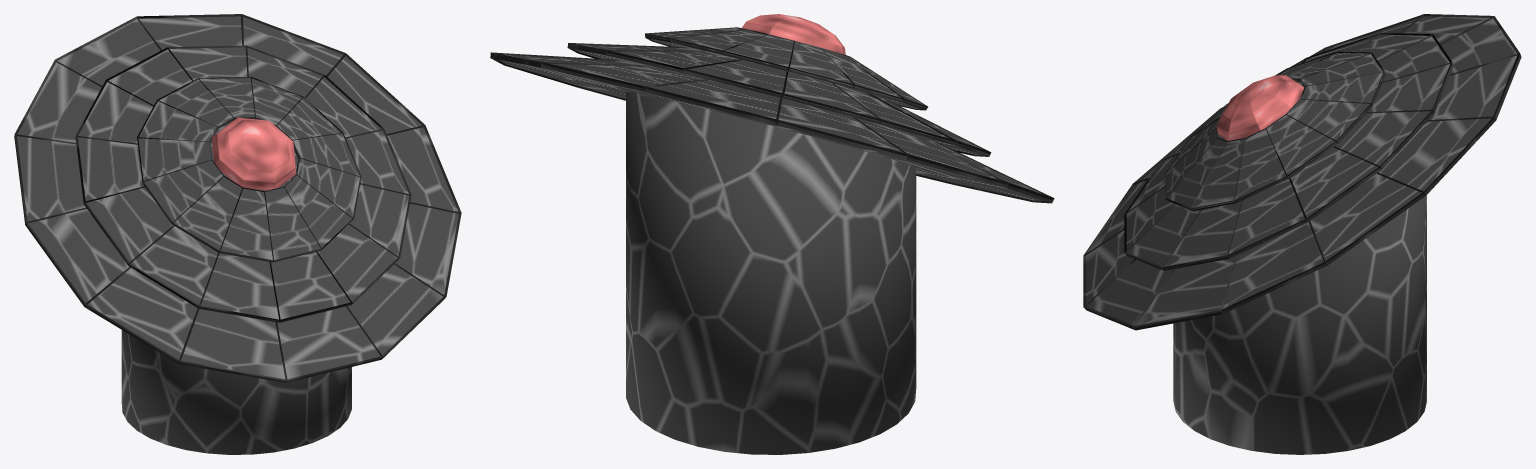
File: DHD_3tiers.glb
The picture shows the model from 3 angles, left to right: view 1: azimuth 30°, elevation 25°; view 2: azimuth 150°, elevation 25°; view 3: azimuth 270°, elevation 25°; orthographic projection. The views are drawn at different scales.
Parts seen in each view (by area): view 1: Ring_Outer, Ring_Middle, Ring_Inner, Cylinder, Button; view 2: Cylinder, Ring_Outer, Ring_Middle, Ring_Inner, Circle, Button, Circle.001; view 3: Cylinder, Ring_Outer, Ring_Middle, Ring_Inner, Button.
Part boxes in pixels (x1,y1,x2,y2): Ring_Outer: [14, 14, 461, 382]; Ring_Middle: [75, 45, 411, 322]; Ring_Inner: [137, 76, 361, 262]; Cylinder: [121, 330, 351, 454]; Button: [212, 117, 296, 190]; Cylinder: [626, 91, 916, 454]; Ring_Outer: [490, 52, 1054, 203]; Ring_Middle: [567, 43, 991, 156]; Ring_Inner: [645, 27, 927, 110]; Circle: [498, 59, 1043, 200]; Button: [742, 14, 845, 54]; Circle.001: [574, 49, 982, 154]; Cylinder: [1173, 195, 1426, 454]; Ring_Outer: [1083, 14, 1521, 330]; Ring_Middle: [1124, 32, 1453, 270]; Ring_Inner: [1165, 51, 1385, 211]; Button: [1216, 75, 1304, 140].
Bounding box in the file's own units: 2 × 1.52 × 1.73.
4 materials, 4 textured.
